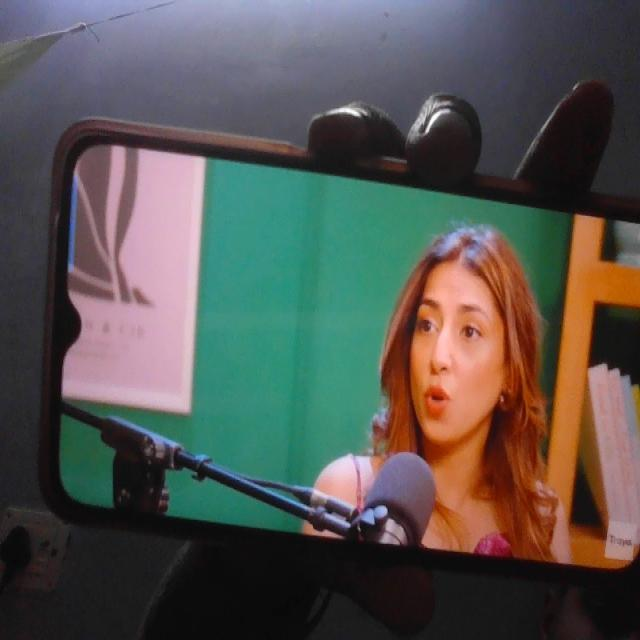fake: (398, 233, 509, 444)
